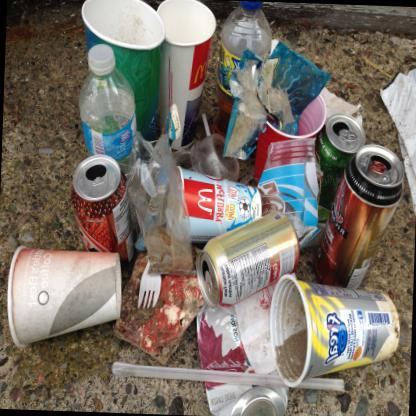Garbage: (0, 121, 398, 372), (85, 224, 415, 392), (172, 23, 374, 296), (0, 132, 188, 362), (49, 0, 225, 189), (178, 232, 312, 410), (204, 34, 344, 170), (124, 132, 221, 296)
